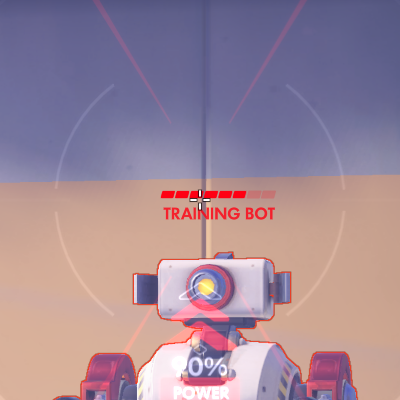hpbar: (160, 190, 277, 199)
